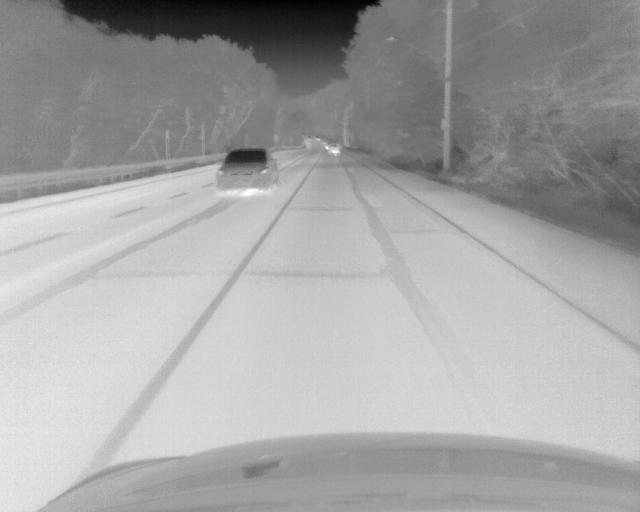car: (216, 149, 279, 192), (327, 144, 341, 156)
